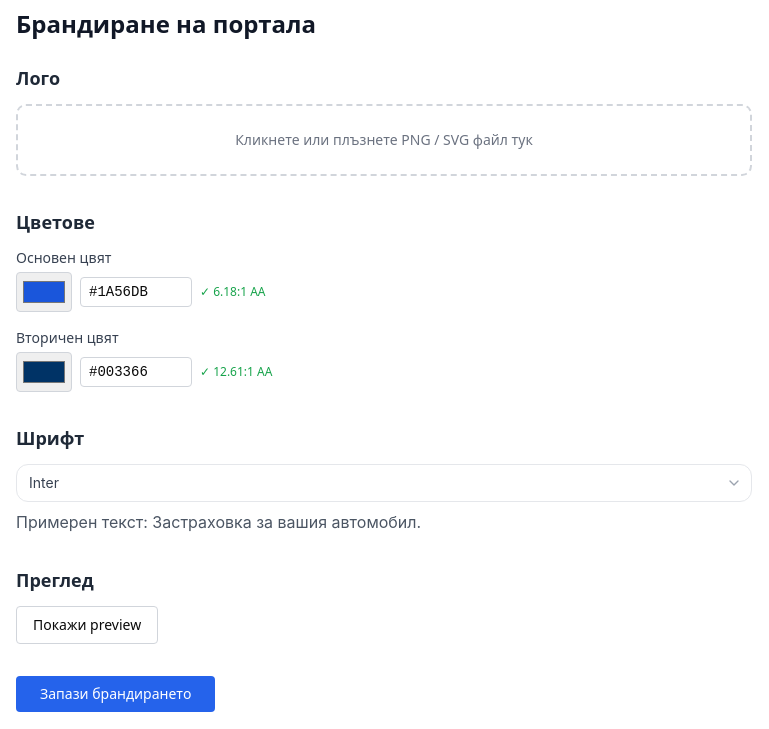
Test: BrandingPage › shows error message when API returns error
What coordinates should you click on to do the following:
click the button "Запази брандирането"
I would click on:
 (116, 694)
Its box is [16, 676, 215, 712].
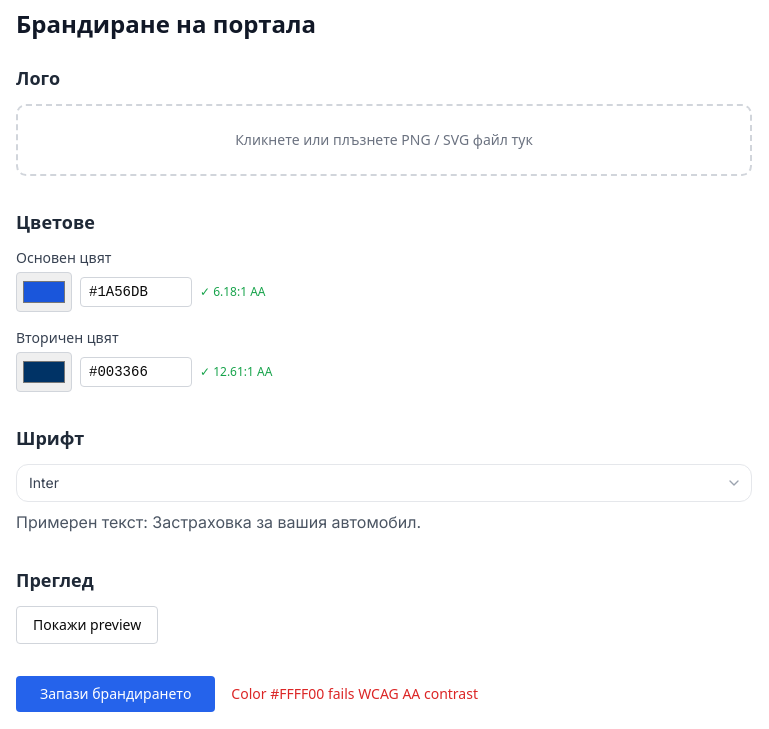
Expected: the text "Color #FFFF00 fails WCAG AA contrast" is shown, [231, 684, 478, 704]
